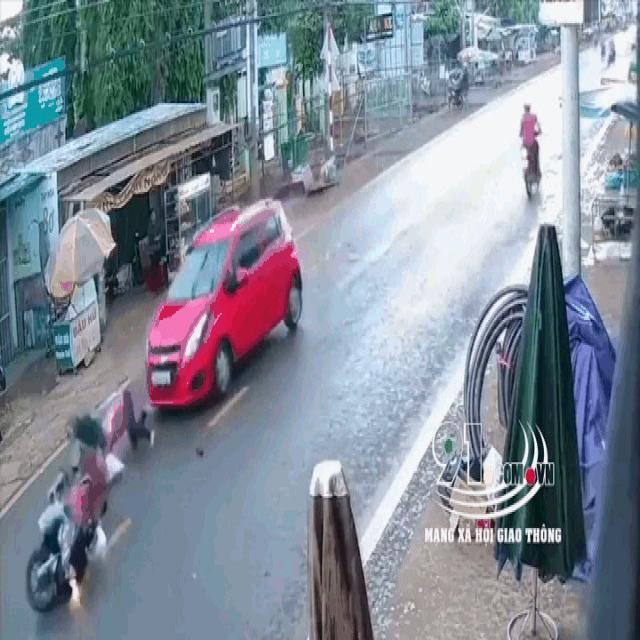multiple_accident: (23, 190, 305, 618)
normal: (489, 87, 551, 209)
